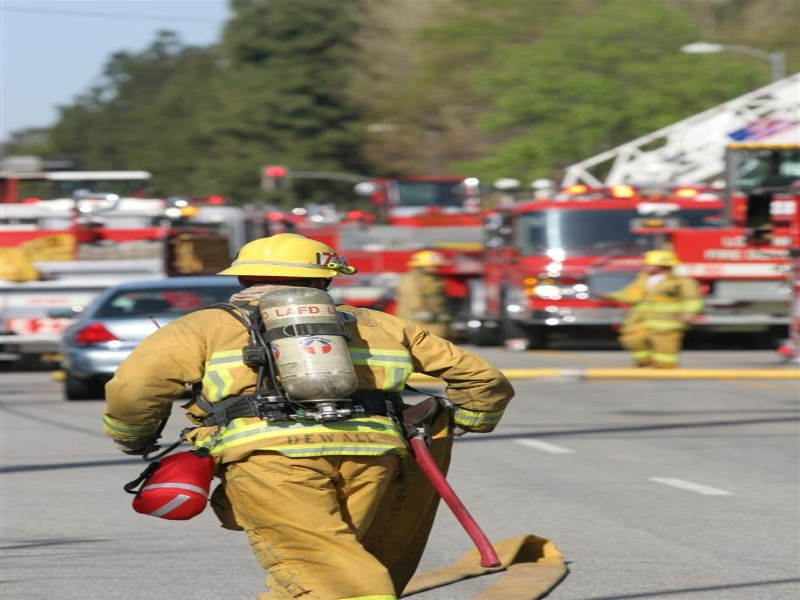baret: (218, 234, 347, 281)
